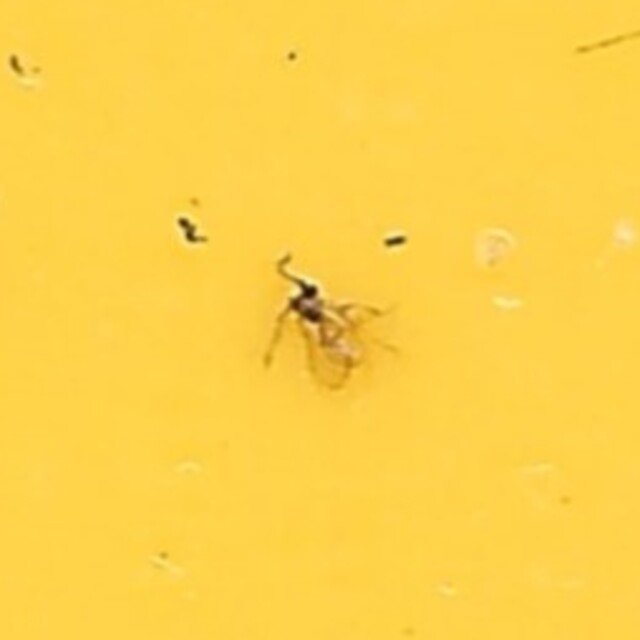Nematocera: (252, 254, 388, 386)
